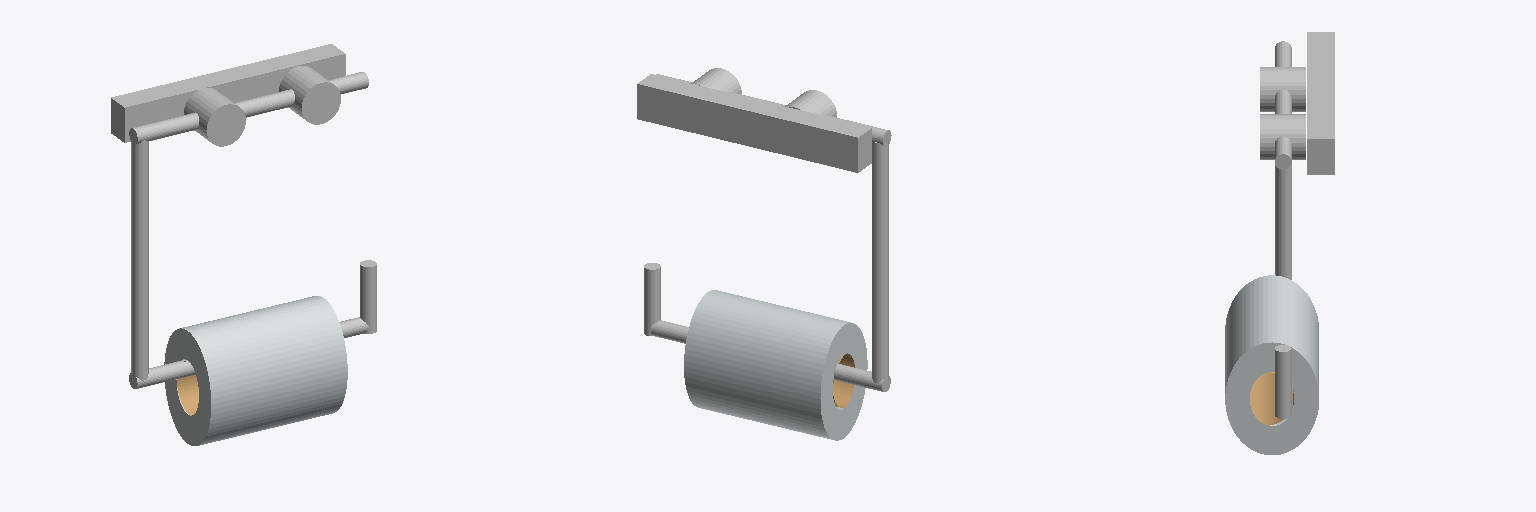
The picture shows the model from 3 angles: view 1: azimuth 30°, elevation 25°; view 2: azimuth 150°, elevation 25°; view 3: azimuth 270°, elevation 25°; orthographic projection.
Parts seen in each view (by area): view 1: Cilindro.002, Cube, Cilindro.003, Cilindro.001, Cilindro.004, Cilindro.005; view 2: Cilindro.002, Cube, Cilindro.003, Cilindro.001, Cilindro.005; view 3: Cilindro.002, Cube, Cilindro.001, Cilindro.003, Cilindro.005, Cilindro.004.
Boxes of the visible parts, x1=… form: Cilindro.002: x1=164, y1=296, x2=347, y2=445; Cube: x1=111, y1=44, x2=345, y2=142; Cilindro.003: x1=129, y1=138, x2=376, y2=388; Cilindro.001: x1=129, y1=66, x2=340, y2=146; Cilindro.004: x1=133, y1=72, x2=368, y2=143; Cilindro.005: x1=177, y1=361, x2=198, y2=415; Cilindro.002: x1=684, y1=290, x2=867, y2=440; Cube: x1=637, y1=74, x2=871, y2=172; Cilindro.003: x1=644, y1=140, x2=890, y2=391; Cilindro.001: x1=691, y1=68, x2=891, y2=146; Cilindro.005: x1=833, y1=353, x2=854, y2=407; Cilindro.002: x1=1225, y1=275, x2=1318, y2=454; Cube: x1=1307, y1=32, x2=1334, y2=174; Cilindro.001: x1=1260, y1=43, x2=1305, y2=169; Cilindro.003: x1=1275, y1=164, x2=1292, y2=418; Cilindro.005: x1=1250, y1=372, x2=1293, y2=425; Cilindro.004: x1=1275, y1=41, x2=1287, y2=158.
Size of the model in its own units: 4.66 by 6.16 by 1.82.
3 materials, 2 textured.